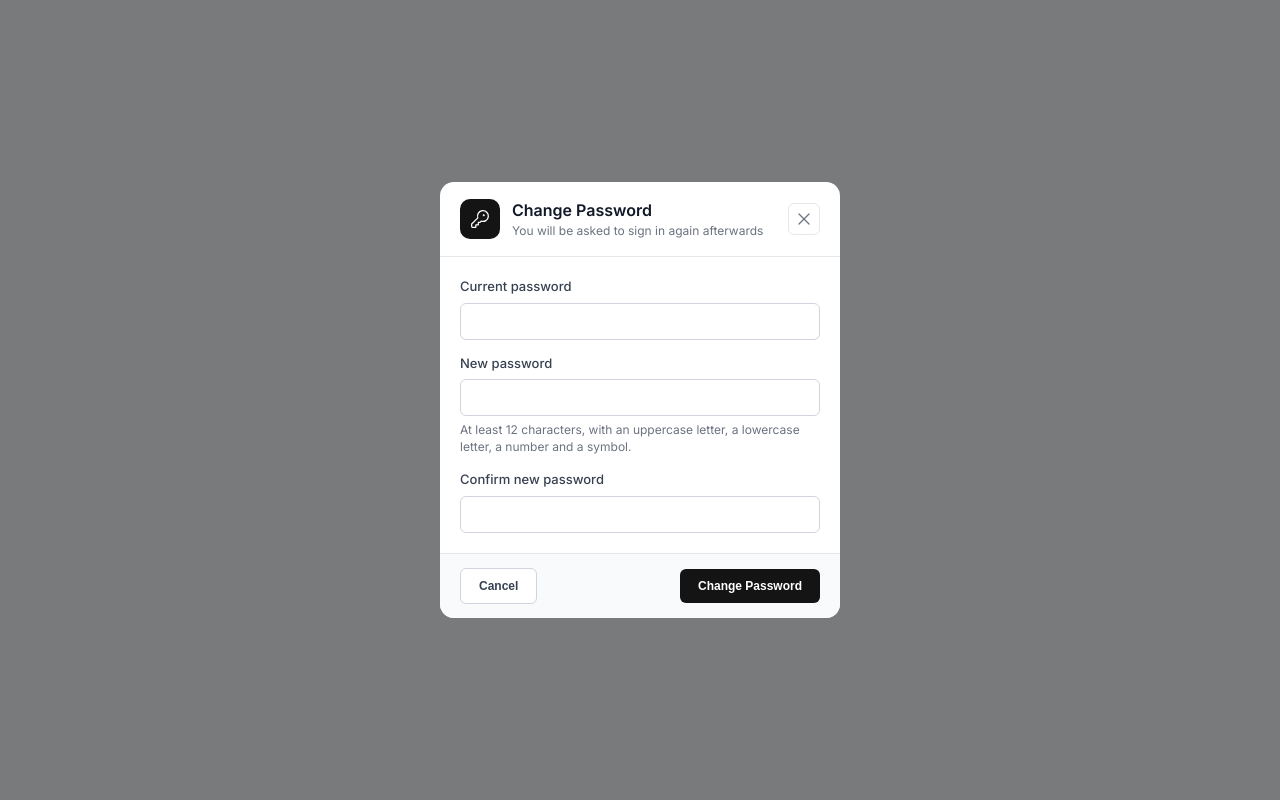
Scenario: ChangePasswordModal › shows the server reason when the change is refused
Type "Wrong-Password-1!" into the password field labelled "Current password" at (640, 322), box top-left (460, 303), bottom-right (820, 340)
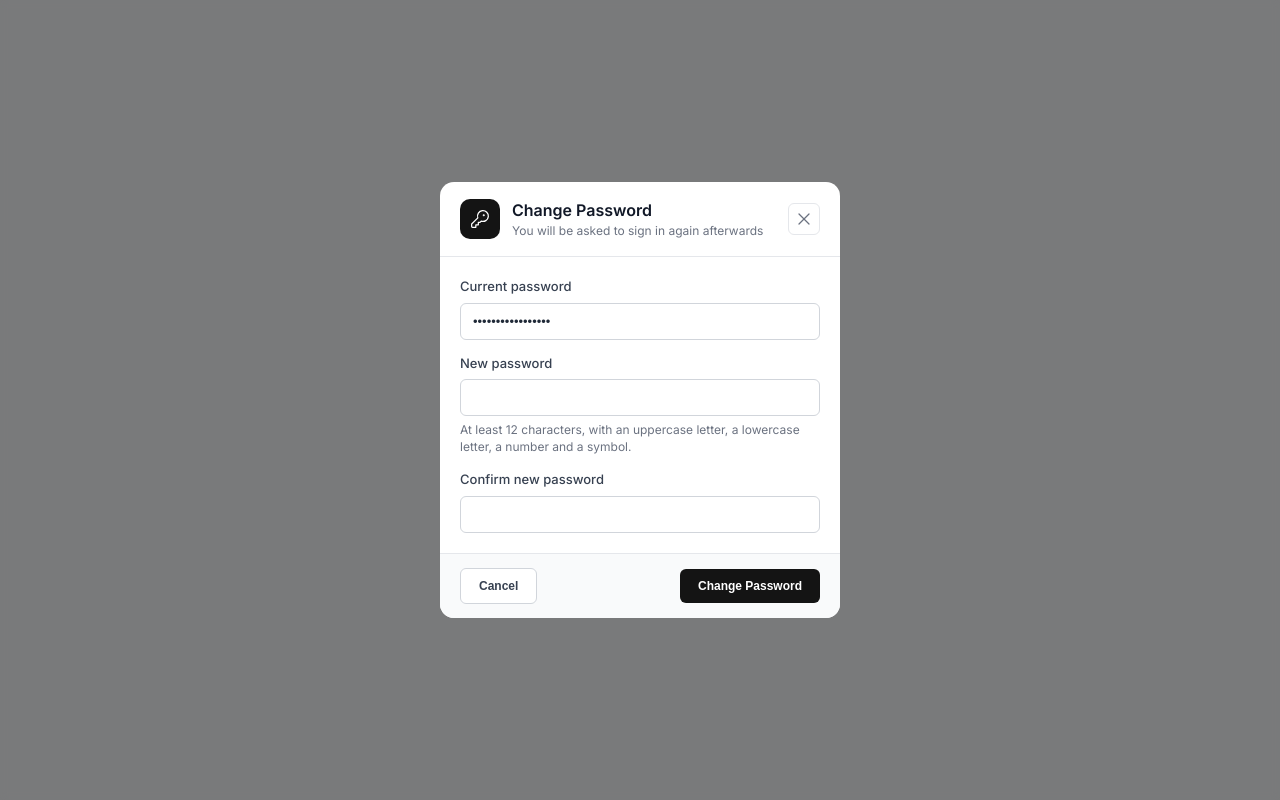
Type "New-Password-2!" into the password field labelled "New password" at (640, 398), box top-left (460, 380), bottom-right (820, 416)
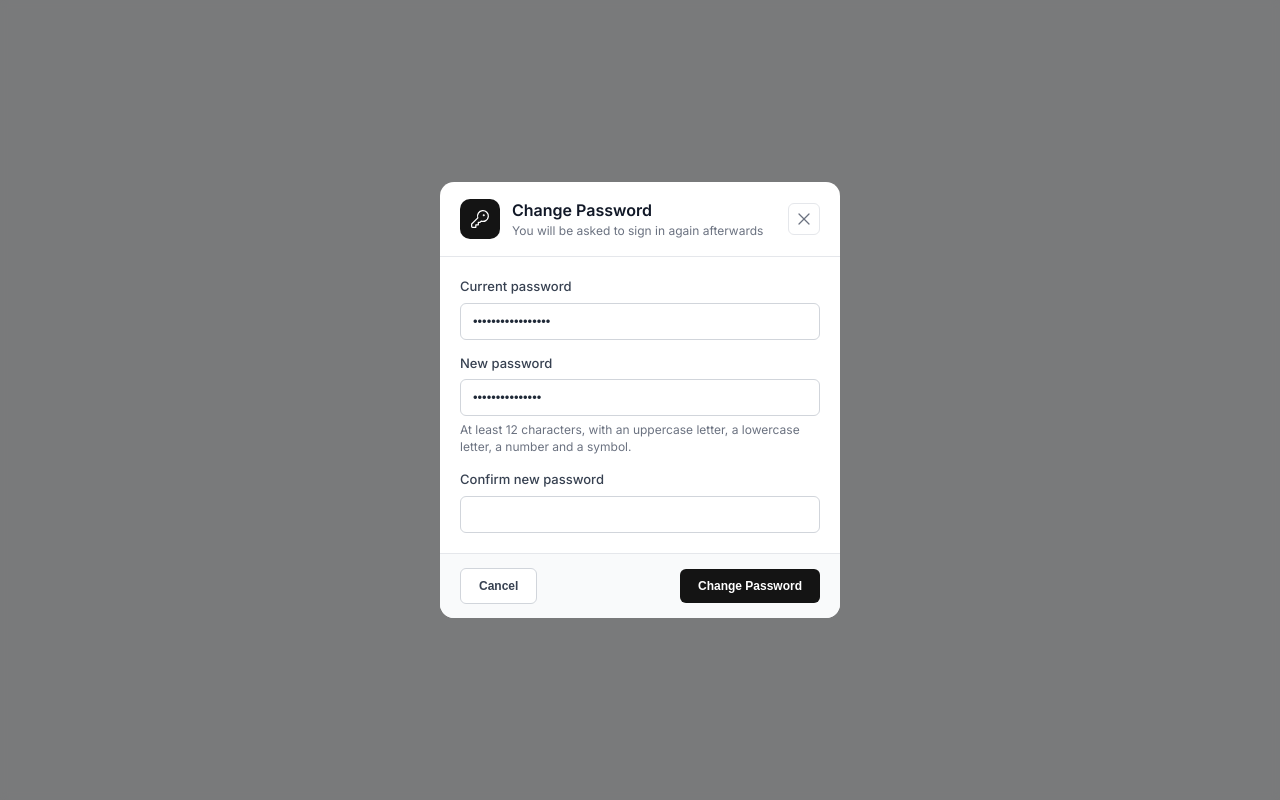
Type "New-Password-2!" into the password field labelled "Confirm new password" at (640, 514), box top-left (460, 496), bottom-right (820, 532)
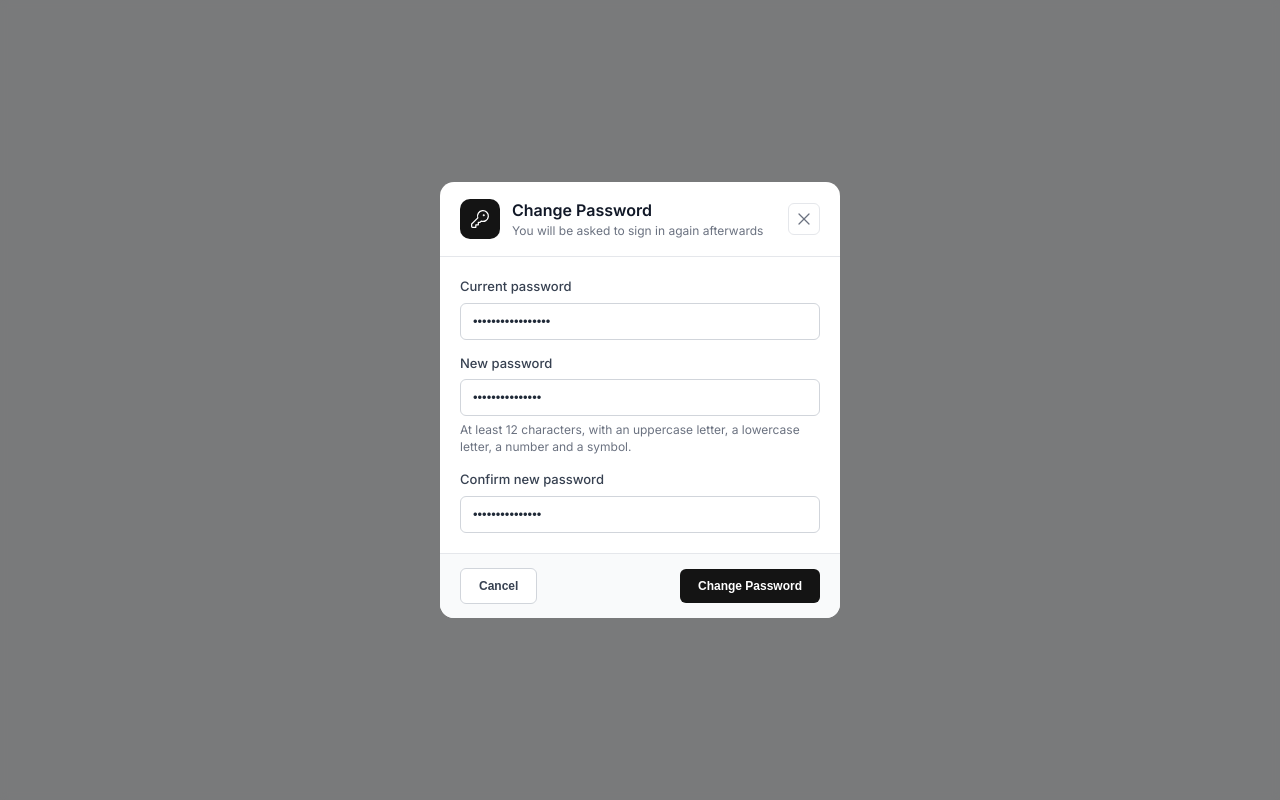
Submit the form, box top-left (460, 278), bottom-right (820, 533)
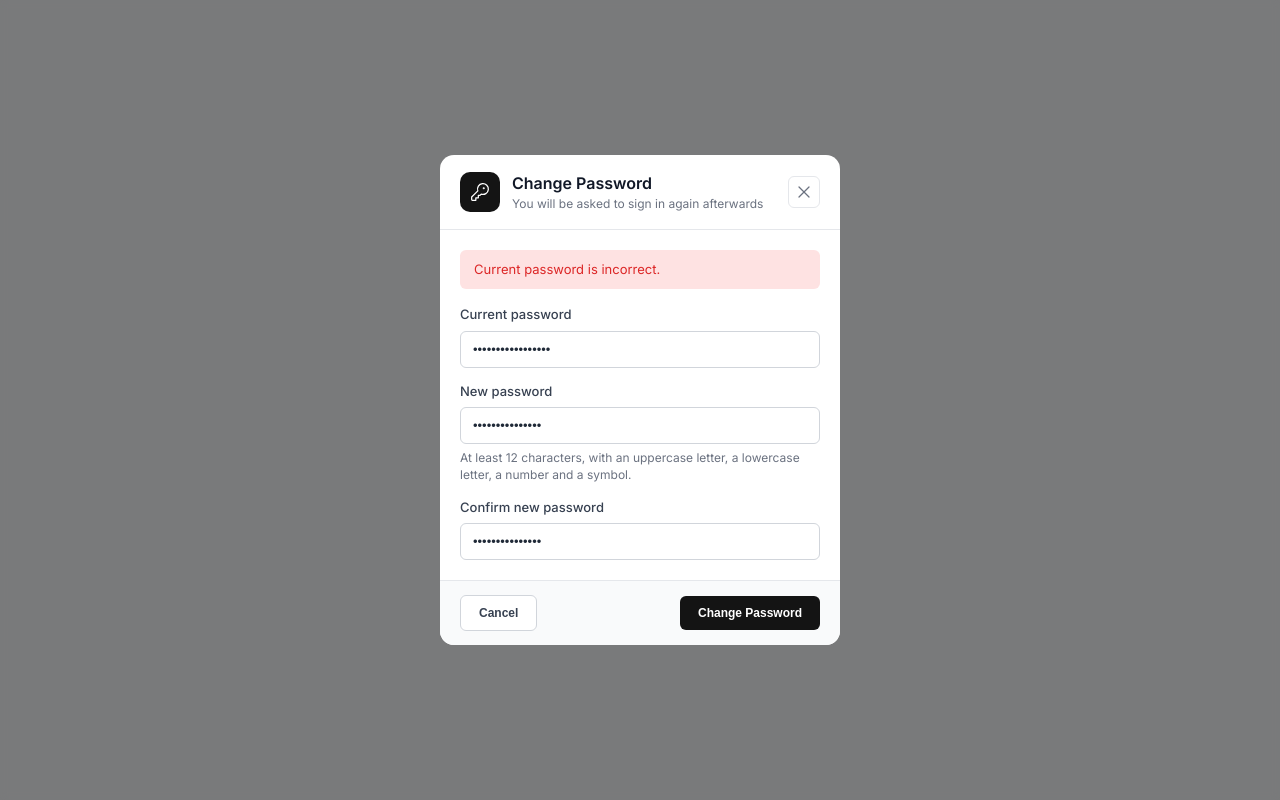
Result: the message reads "Current password is incorrect." at top-left (474, 261), bottom-right (660, 277)
